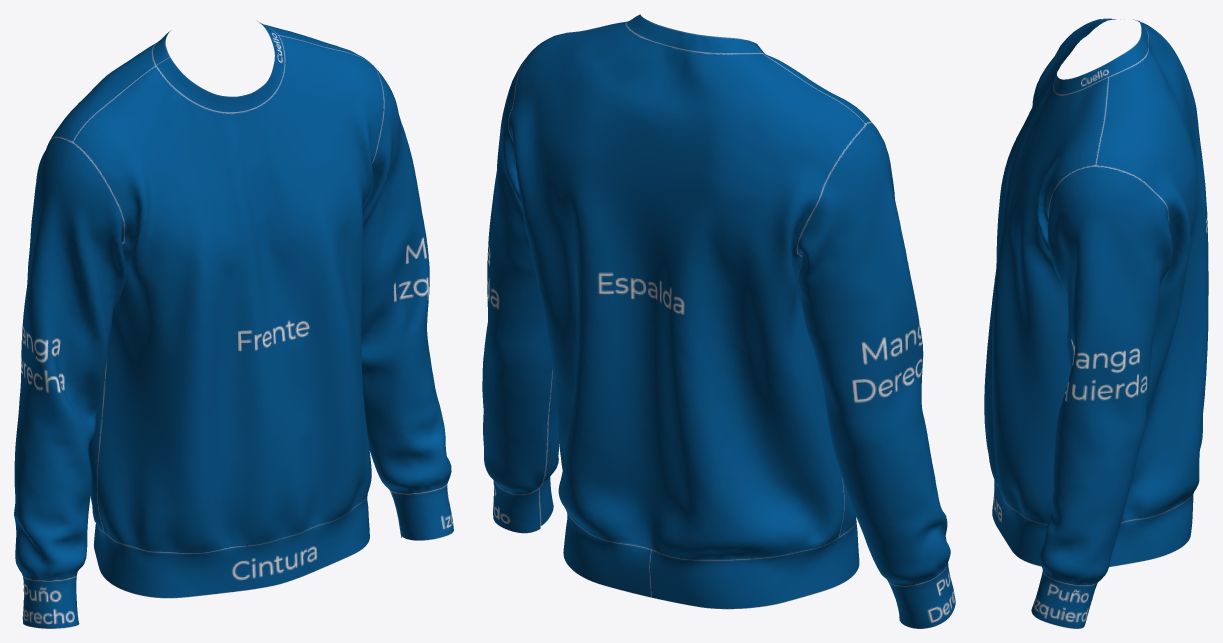
File: sweater.gltf
3 renders of one model, left to right at view 1: azimuth 30°, elevation 25°; view 2: azimuth 150°, elevation 25°; view 3: azimuth 270°, elevation 25°, orthographic. The views are drawn at different scales.
Visible parts, largest first — view 1: Men_s_hoody_fbx_thin; view 2: Men_s_hoody_fbx_thin; view 3: Men_s_hoody_fbx_thin.
Boxes of the visible parts, x1,y1,x2,y2 form: Men_s_hoody_fbx_thin: [14, 21, 453, 628]; Men_s_hoody_fbx_thin: [482, 14, 955, 628]; Men_s_hoody_fbx_thin: [984, 18, 1208, 628].
Size of the model in its own units: 0.6002 by 0.7197 by 0.2881.
Materials: 1 (1 with a texture image).
